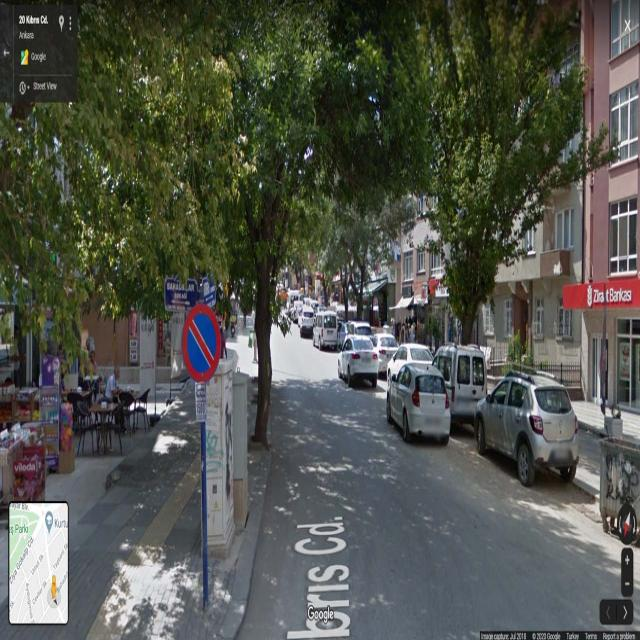parkyasak: (179, 304, 223, 382)
